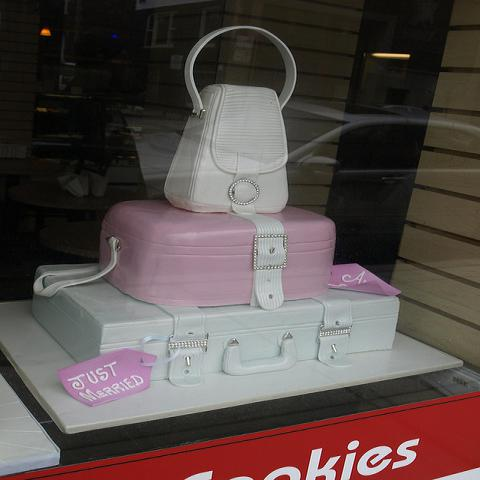car: (8, 87, 479, 262)
